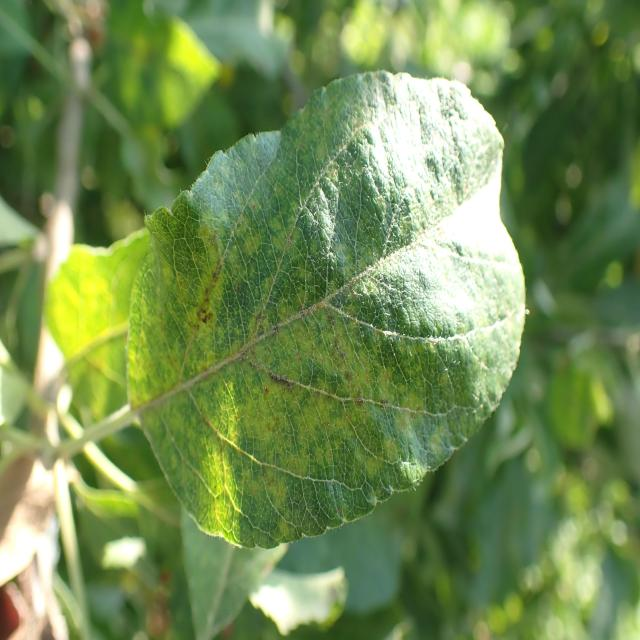scab: (144, 85, 514, 539)
